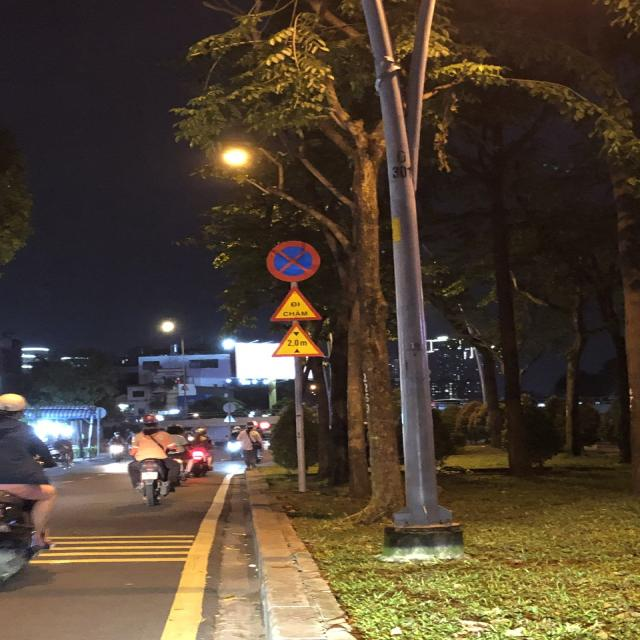Bien bao cam dung xe va do xe: (261, 236, 326, 284)
Bien bao chieu cao tinh khong thuc te: (270, 322, 330, 358)
Bien bao di cham: (268, 282, 326, 326)
